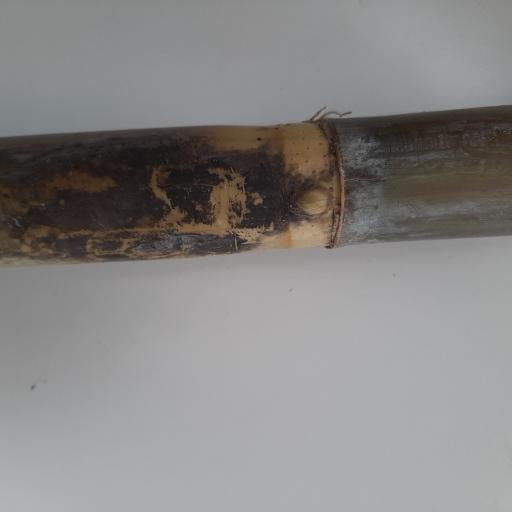Bud: (287, 186, 333, 218)
